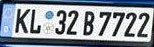character: (14, 8, 31, 33), (97, 10, 112, 36), (123, 12, 138, 37), (53, 9, 67, 35), (111, 11, 125, 37), (136, 12, 150, 38), (65, 9, 78, 36), (81, 10, 94, 35), (29, 8, 41, 34)
